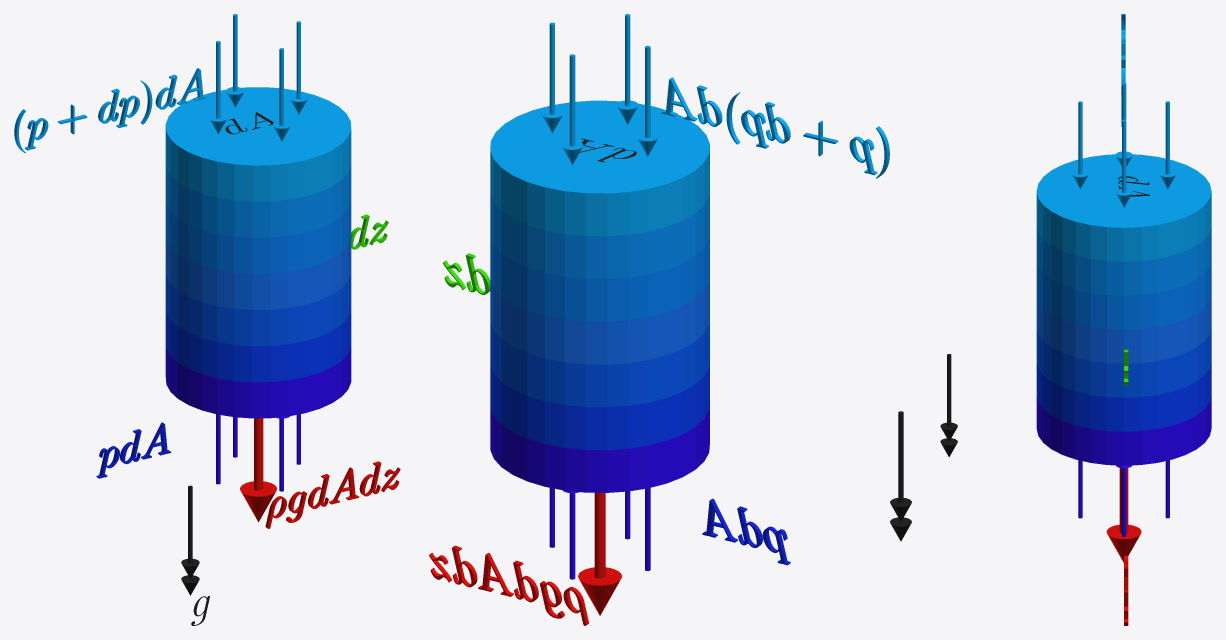
Rendered from pressure_dist.glb.
The picture shows the model from 3 angles, left to right: view 1: azimuth 30°, elevation 25°; view 2: azimuth 150°, elevation 25°; view 3: azimuth 270°, elevation 25°; orthographic projection. The views are drawn at different scales.
Visible parts, largest first — view 1: Cylinder, Curve.001, Cylinder.002_Cylinder.004, Curve.003_Curve.021, Cylinder.001, Cylinder.009_Cylinder.010, Curve.002_Curve.009, Cylinder.003_Cylinder.013, Curve.004_Curve.017; view 2: Cylinder, Curve.001, Cylinder.002_Cylinder.004, Curve.003_Curve.021, Cylinder.001, Cylinder.009_Cylinder.010, Curve.002_Curve.009, Cylinder.003_Cylinder.013, Curve.004_Curve.017; view 3: Cylinder, Cylinder.002_Cylinder.004, Cylinder.001, Cylinder.009_Cylinder.010, Cylinder.003_Cylinder.013, Curve.001.
Part boxes in pixels (x1,y1,x2,y2): Cylinder: (165, 87, 351, 418); Curve.001: (14, 68, 206, 153); Cylinder.002_Cylinder.004: (209, 14, 307, 141); Curve.003_Curve.021: (265, 461, 400, 528); Cylinder.001: (240, 418, 276, 521); Cylinder.009_Cylinder.010: (216, 414, 300, 491); Curve.002_Curve.009: (96, 422, 171, 478); Cylinder.003_Cylinder.013: (181, 485, 199, 595); Curve.004_Curve.017: (351, 214, 388, 249); Cylinder: (490, 100, 709, 492); Curve.001: (661, 77, 889, 178); Cylinder.002_Cylinder.004: (541, 14, 658, 164); Curve.003_Curve.021: (429, 545, 588, 625); Cylinder.001: (578, 493, 621, 615); Cylinder.009_Cylinder.010: (549, 488, 650, 579); Curve.002_Curve.009: (702, 498, 790, 565); Cylinder.003_Cylinder.013: (890, 411, 911, 541); Curve.004_Curve.017: (443, 253, 490, 294); Cylinder: (1036, 154, 1211, 465); Cylinder.002_Cylinder.004: (1071, 82, 1176, 207); Cylinder.001: (1106, 468, 1141, 562); Cylinder.009_Cylinder.010: (1078, 460, 1169, 536); Cylinder.003_Cylinder.013: (940, 354, 957, 457); Curve.001: (1121, 14, 1125, 126).
Bounding box in the file's own units: 4.79 × 5.93 × 3.1.
